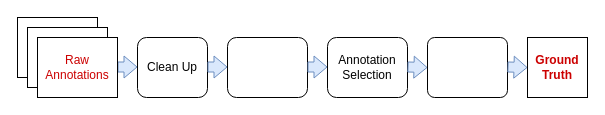
Some shapes in this 605 by 115 pixel diagram are drawn without their labels. Each missing label, with the centre of its shape:
"Annotation Fusion" belongs at (x=467, y=67).
"Temporal Alignment" belongs at (x=267, y=67).
